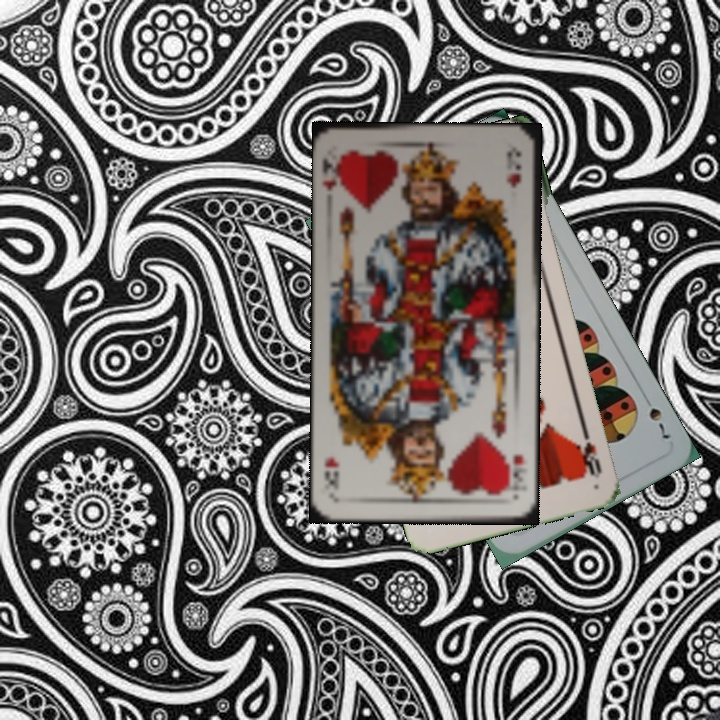HK: (319, 150, 346, 195), (503, 449, 530, 491)
HO: (578, 424, 604, 480)
S7: (639, 390, 673, 442)
